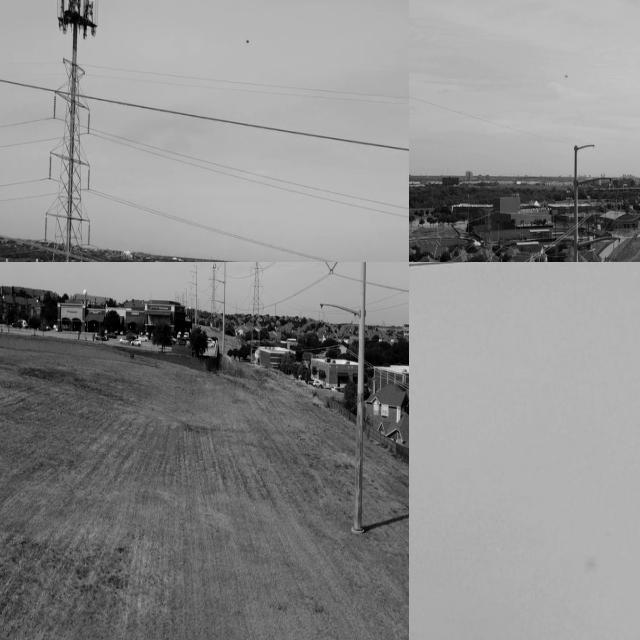杆塔: (24, 66, 98, 262), (468, 201, 507, 262), (246, 262, 266, 371), (209, 262, 217, 327)
正常绝缘子: (324, 315, 343, 348), (337, 317, 356, 349), (82, 160, 96, 201), (84, 94, 95, 145), (40, 204, 50, 254), (46, 146, 58, 187), (84, 220, 98, 254), (49, 92, 60, 124), (327, 262, 340, 278), (323, 262, 334, 276)
